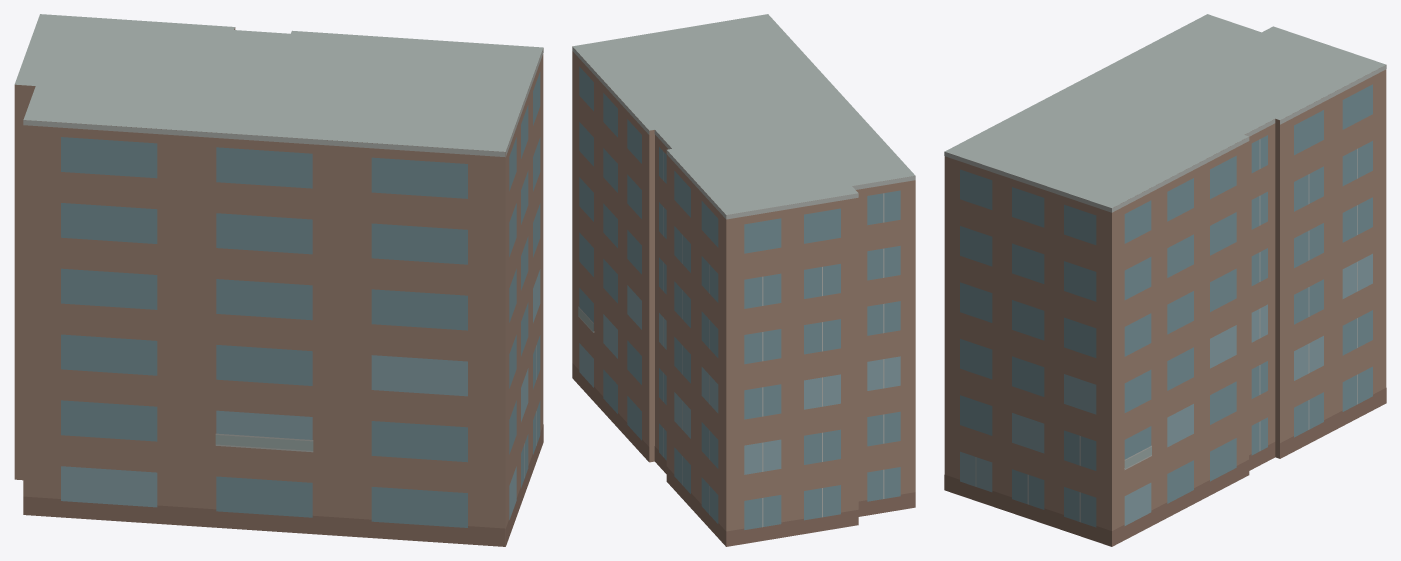
The model's file is survey-upis-32659353.glb.
The picture shows the model from 3 angles, left to right: view 1: azimuth 30°, elevation 25°; view 2: azimuth 150°, elevation 25°; view 3: azimuth 270°, elevation 25°; orthographic projection. The views are drawn at different scales.
Visible parts, largest first — view 1: survey-upis-32659353.tmp; view 2: survey-upis-32659353.tmp; view 3: survey-upis-32659353.tmp.
Part boxes in pixels (x1,y1,x2,y2): survey-upis-32659353.tmp: (14, 14, 543, 546); survey-upis-32659353.tmp: (572, 14, 915, 546); survey-upis-32659353.tmp: (944, 14, 1386, 546).
Bounding box in the file's own units: 22.52 × 18.3 × 21.65.
